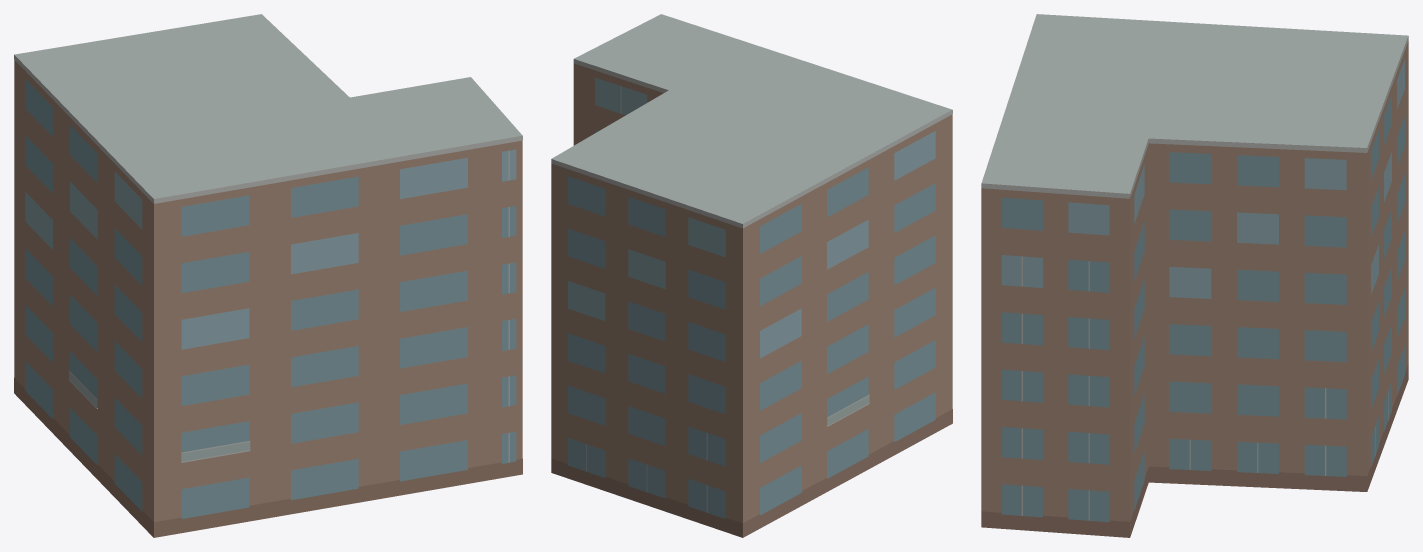
The model's file is survey-upis-32874860.glb.
The picture shows the model from 3 angles, left to right: view 1: azimuth 30°, elevation 25°; view 2: azimuth 150°, elevation 25°; view 3: azimuth 270°, elevation 25°; orthographic projection. The views are drawn at different scales.
Parts seen in each view (by area): view 1: survey-upis-32874860.tmp; view 2: survey-upis-32874860.tmp; view 3: survey-upis-32874860.tmp.
Boxes of the visible parts, x1,y1,x2,y2 form: survey-upis-32874860.tmp: (14,14,522,537); survey-upis-32874860.tmp: (551,14,952,537); survey-upis-32874860.tmp: (981,14,1408,537).
Size of the model in its own units: 19.31 by 17.2 by 19.37.
